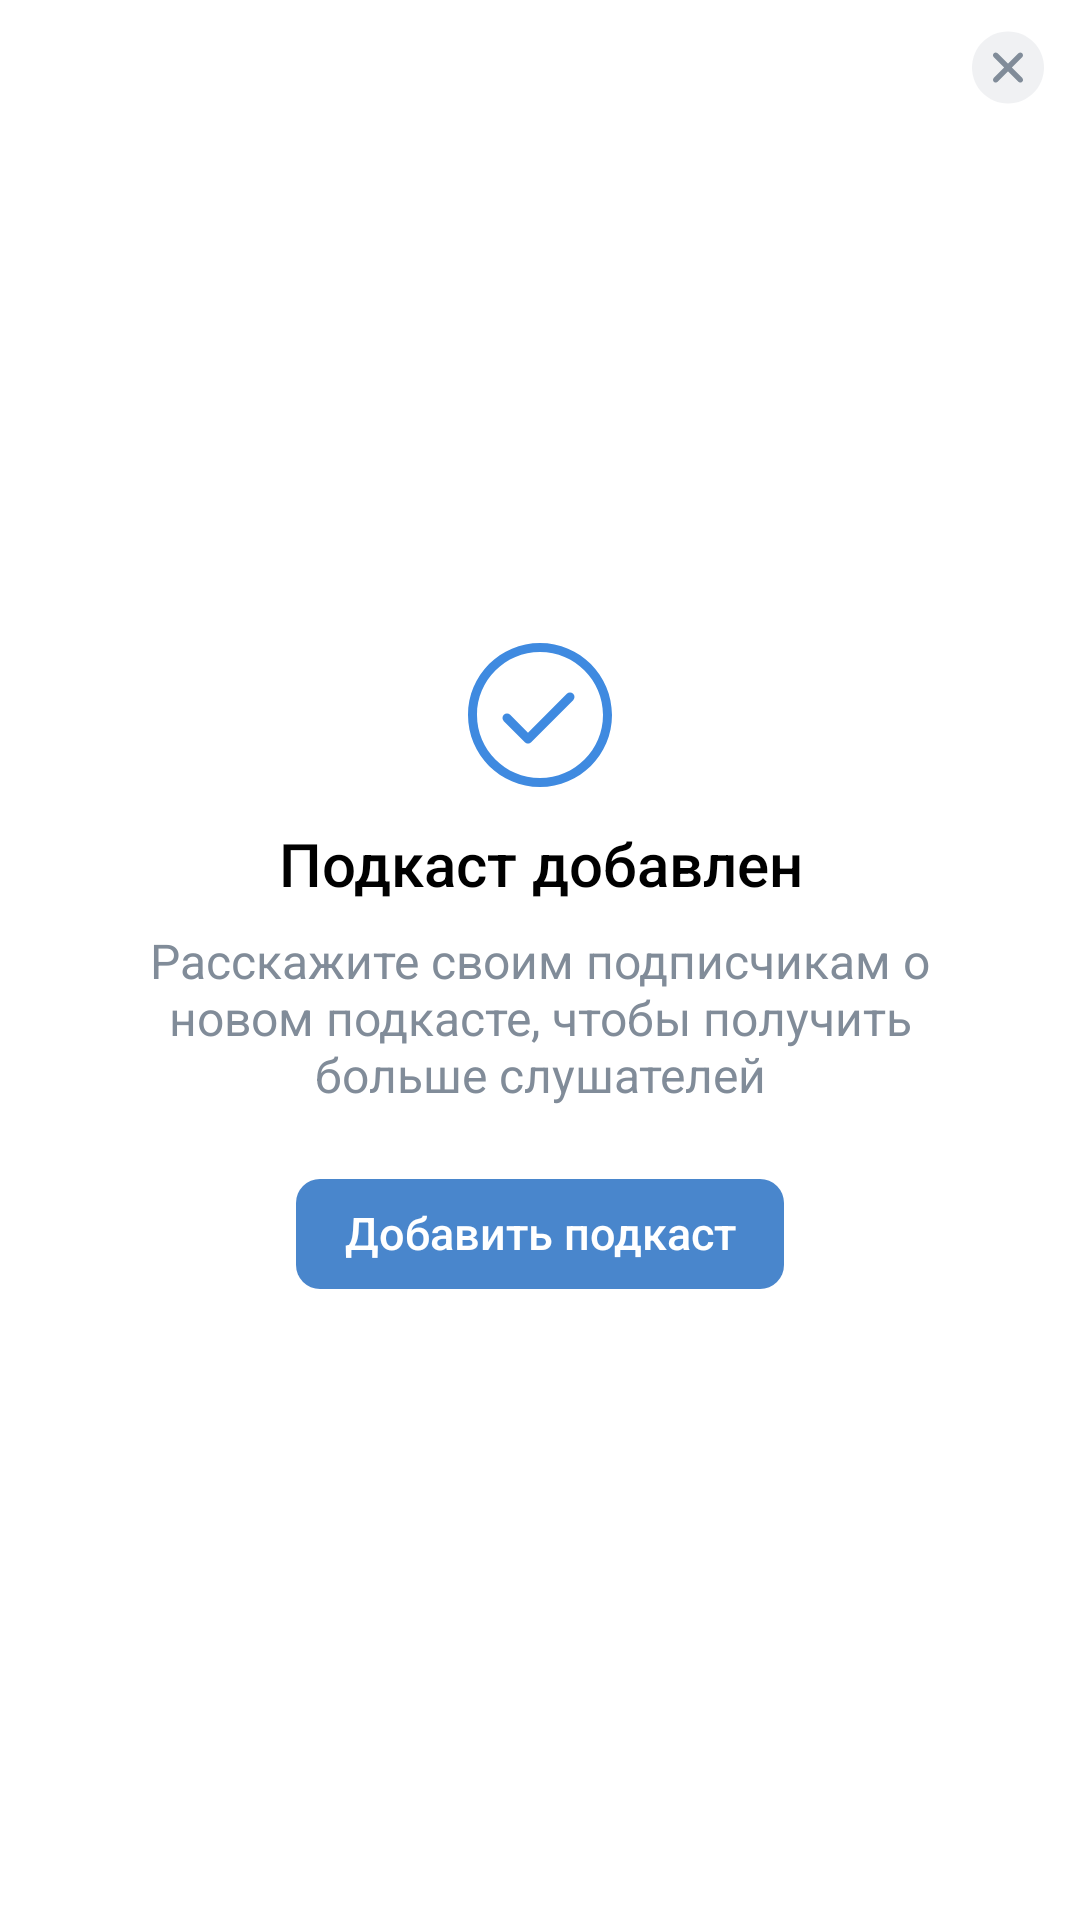

Icon click points for this 1080×1920 phone screenshot, format [x,y]:
close: [1008,67]
done: [540,715]
